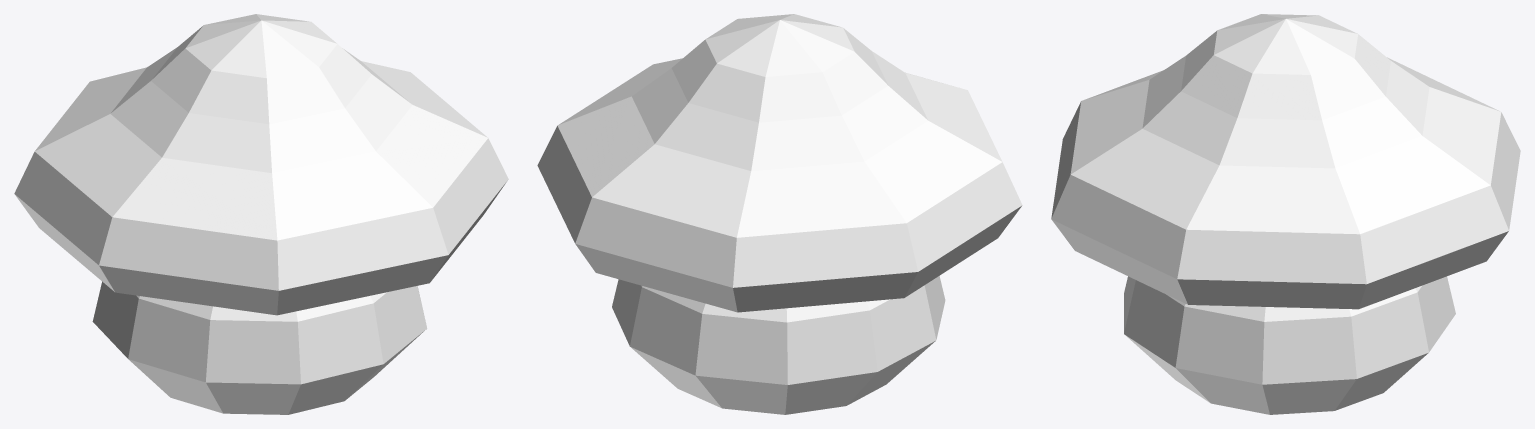
Rendered from Mushroom.fbx.
The picture shows the model from 3 angles, left to right: view 1: azimuth 30°, elevation 25°; view 2: azimuth 150°, elevation 25°; view 3: azimuth 270°, elevation 25°; orthographic projection.
Visible parts, largest first — view 1: Mushroom; view 2: Mushroom; view 3: Mushroom.
Boxes of the visible parts, x1=… form: Mushroom: x1=14, y1=14, x2=508, y2=414; Mushroom: x1=537, y1=14, x2=1022, y2=414; Mushroom: x1=1051, y1=14, x2=1520, y2=414.
Size of the model in its own units: 65.99 by 65.99 by 53.97.
